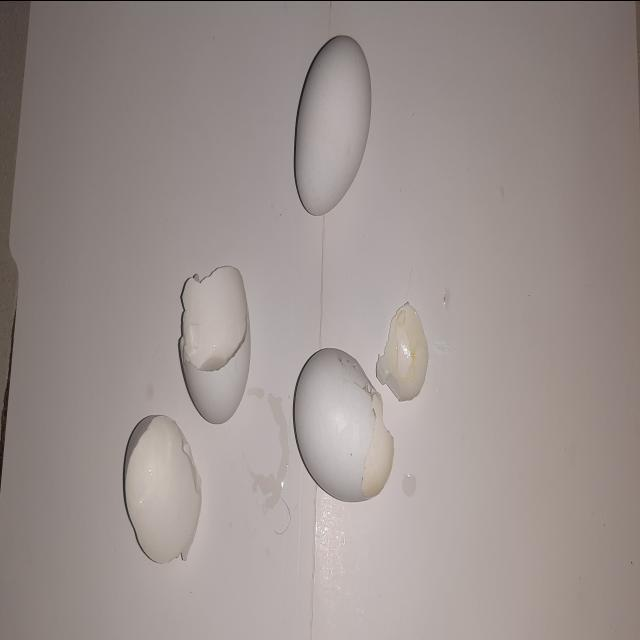egg shell: (290, 345, 396, 503), (292, 30, 374, 218), (120, 407, 203, 568), (176, 258, 252, 428), (376, 295, 431, 401)
